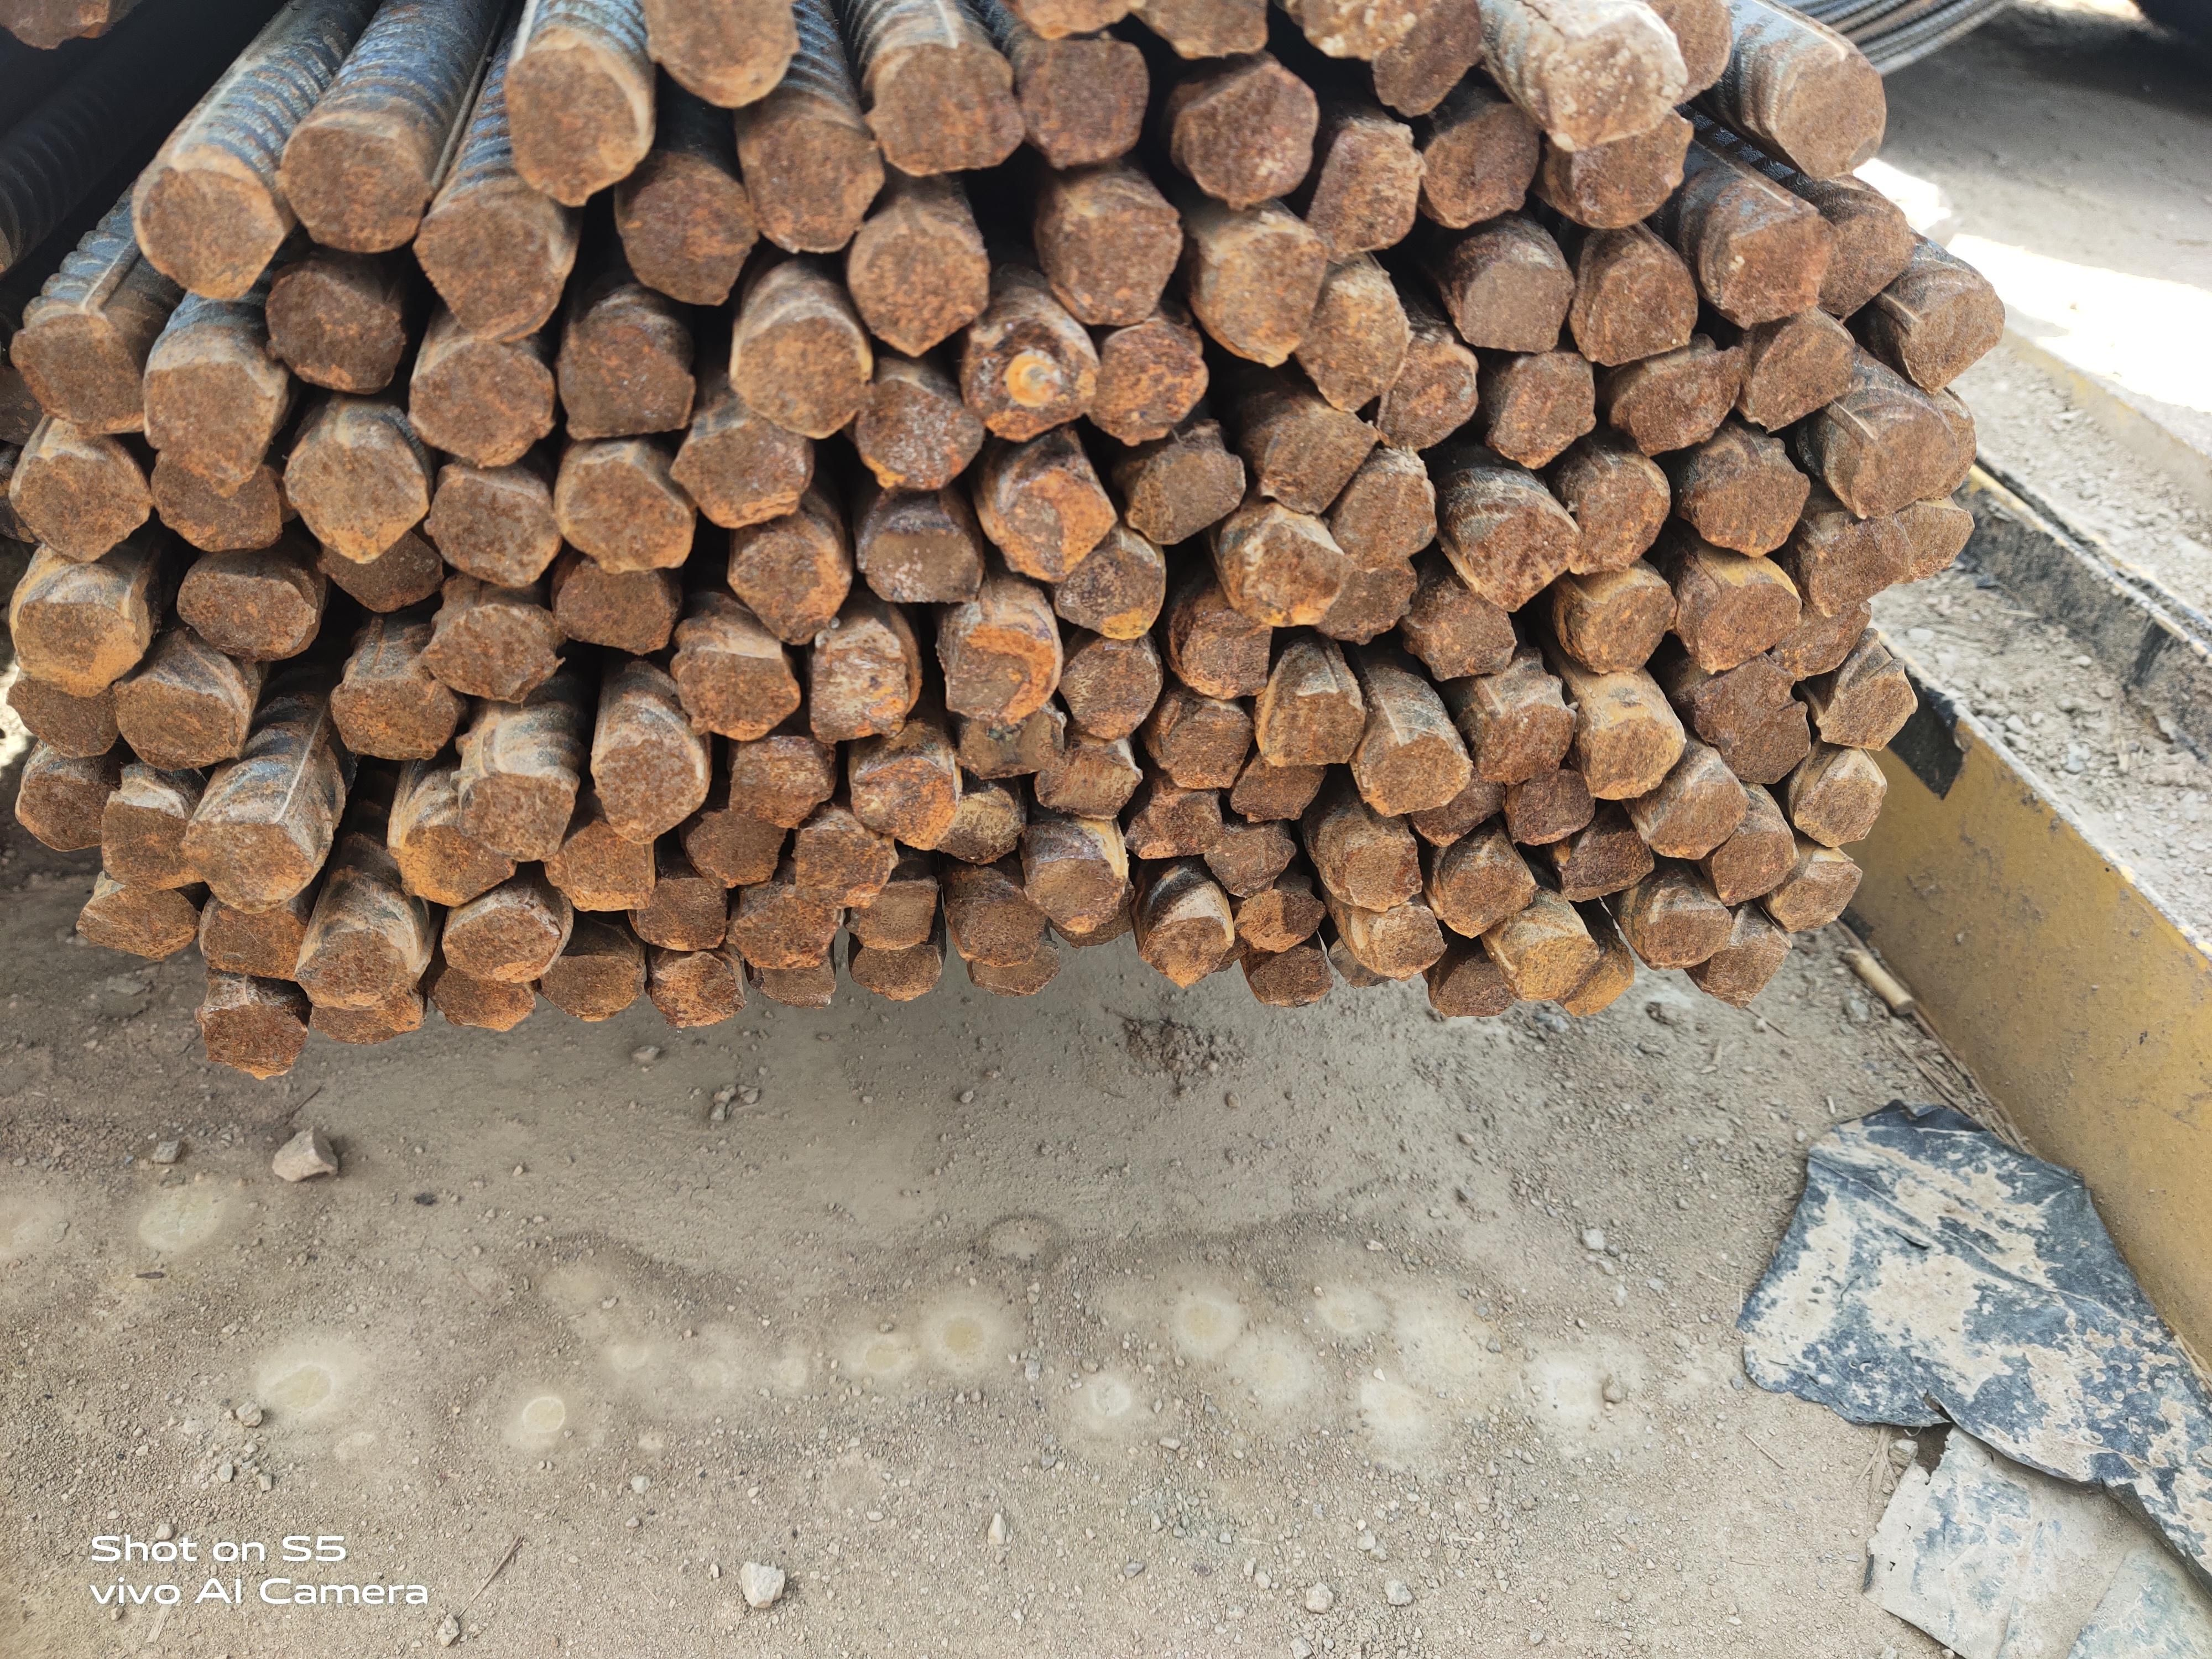rebar: (409, 191, 572, 340), (503, 40, 649, 209), (846, 196, 995, 356), (129, 154, 286, 299), (1532, 8, 1687, 149), (1037, 182, 1185, 329), (618, 155, 762, 306), (747, 105, 884, 263), (871, 40, 1024, 179), (729, 301, 874, 444), (276, 123, 436, 254), (1197, 212, 1331, 362), (404, 339, 561, 466), (1185, 61, 1323, 205), (1759, 35, 1895, 181), (137, 357, 281, 495), (7, 307, 152, 439), (285, 430, 427, 564), (969, 310, 1110, 444), (978, 461, 1121, 591), (1015, 33, 1152, 171), (420, 470, 566, 594), (636, 2, 812, 105), (264, 267, 406, 393), (1305, 119, 1430, 260), (559, 315, 698, 440), (1300, 264, 1415, 412), (1847, 394, 1980, 520), (1579, 237, 1700, 372), (849, 375, 989, 492), (1562, 108, 1698, 227), (1087, 318, 1211, 447), (11, 450, 152, 561), (559, 456, 694, 571), (148, 444, 286, 556), (1454, 490, 1577, 613), (1124, 425, 1250, 545), (1415, 105, 1539, 226), (727, 521, 856, 639), (671, 423, 812, 530), (7, 589, 143, 698), (939, 612, 1065, 731), (1614, 343, 1747, 452), (108, 672, 251, 774), (171, 565, 321, 661), (180, 813, 320, 912), (1717, 205, 1833, 325), (1689, 442, 1814, 557), (1739, 315, 1863, 429), (1893, 275, 2010, 392), (1488, 351, 1603, 471), (429, 604, 564, 704), (1363, 2, 1486, 112), (1451, 248, 1572, 357), (1055, 538, 1175, 649), (1255, 406, 1379, 513), (1232, 520, 1347, 632), (853, 506, 984, 604), (587, 735, 706, 843), (1811, 639, 1919, 758), (809, 619, 917, 738), (1376, 329, 1481, 451), (675, 641, 800, 743), (393, 813, 516, 912), (1571, 455, 1672, 578), (1056, 636, 1170, 745), (1329, 451, 1439, 563), (557, 559, 677, 661), (1803, 512, 1916, 619), (195, 992, 311, 1094), (1630, 1, 1739, 108), (1818, 206, 1915, 324), (1686, 578, 1804, 676), (328, 671, 455, 762), (290, 924, 419, 1012), (1641, 756, 1749, 861), (13, 747, 115, 856), (1580, 700, 1683, 809), (852, 748, 964, 849), (458, 770, 580, 863), (544, 818, 658, 917), (8, 671, 123, 766), (1355, 729, 1474, 820), (794, 805, 896, 911), (1029, 733, 1142, 826), (729, 882, 845, 972), (1786, 748, 1890, 851), (1681, 660, 1793, 752), (194, 896, 309, 987), (444, 896, 566, 982), (727, 734, 830, 834), (1474, 694, 1575, 792), (72, 885, 201, 962), (1155, 693, 1255, 791), (1575, 575, 1673, 676), (946, 877, 1048, 972), (1171, 608, 1275, 702), (320, 536, 448, 613), (1319, 560, 1421, 651), (1027, 849, 1133, 939), (1434, 848, 1537, 936), (1710, 805, 1799, 909), (1260, 687, 1363, 773), (1764, 846, 1869, 935), (1422, 586, 1516, 679), (1292, 1, 1418, 69), (100, 799, 194, 893), (635, 868, 732, 957), (539, 950, 647, 1030), (956, 711, 1069, 785), (1139, 1, 1273, 64), (647, 948, 744, 1034), (686, 806, 784, 893), (1141, 906, 1233, 995), (933, 780, 1026, 865), (1507, 924, 1598, 1009), (1503, 765, 1593, 852), (1636, 900, 1735, 978), (1557, 830, 1659, 904), (1709, 924, 1791, 1015), (1333, 828, 1418, 915), (1127, 789, 1228, 863), (1230, 747, 1324, 824), (1362, 899, 1449, 983), (849, 874, 942, 950), (304, 990, 426, 1050), (1200, 821, 1294, 896), (436, 968, 536, 1037), (1232, 882, 1327, 956), (1727, 702, 1817, 781), (1901, 495, 1976, 583), (1247, 945, 1334, 1014), (1802, 596, 1872, 676), (961, 943, 1061, 1000), (1434, 958, 1521, 1023), (854, 937, 945, 1001), (755, 956, 842, 1011), (1572, 948, 1636, 1022)
